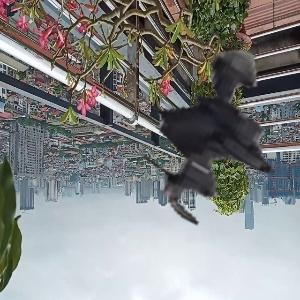drone: (87, 17, 291, 221)
